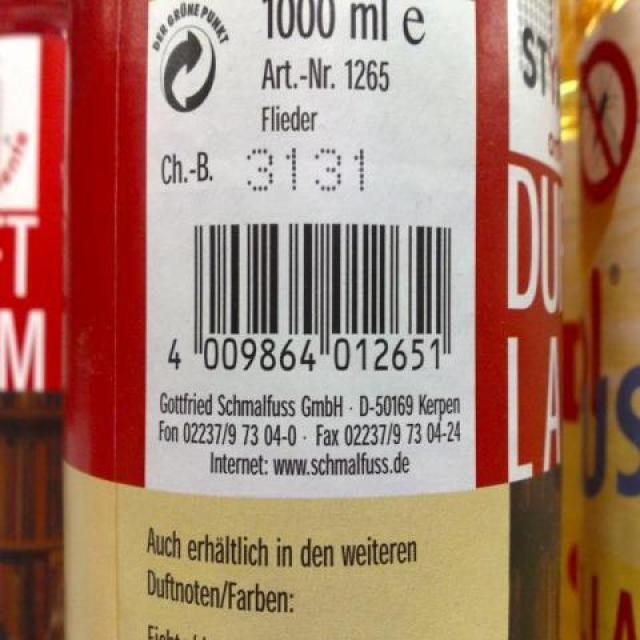Barcode: (158, 203, 466, 388)
